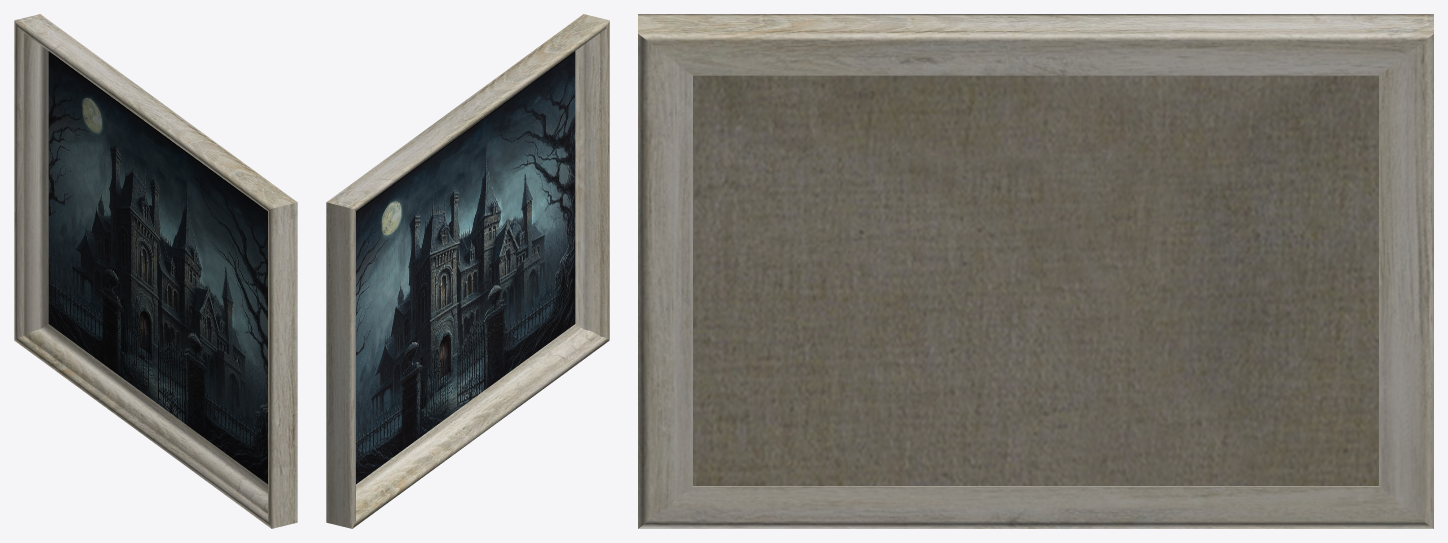
Rendered from PaintingGraveyard.fbx.
The picture shows the model from 3 angles, left to right: view 1: azimuth 30°, elevation 25°; view 2: azimuth 150°, elevation 25°; view 3: azimuth 270°, elevation 25°; orthographic projection. The views are drawn at different scales.
Parts seen in each view (by area): view 1: PaintingWide1, PaintingFrame; view 2: PaintingWide1, PaintingFrame; view 3: PaintingBackside, PaintingFrame.
Part boxes in pixels (x1,y1,x2,y2): PaintingWide1: [48, 51, 267, 484]; PaintingFrame: [14, 14, 297, 528]; PaintingWide1: [356, 51, 575, 484]; PaintingFrame: [326, 14, 609, 528]; PaintingBackside: [693, 75, 1378, 485]; PaintingFrame: [638, 14, 1433, 528].
Bounding box in the file's own units: 14.04 × 165 × 240.
3 materials, 3 textured.
